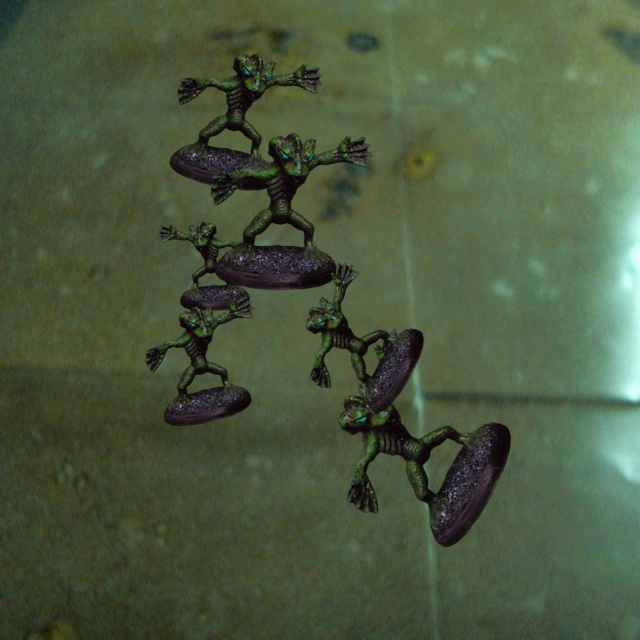pieza_juego: (338, 329, 510, 546), (210, 133, 371, 289), (169, 53, 322, 190), (305, 262, 423, 412), (145, 296, 254, 425), (157, 221, 250, 310)
